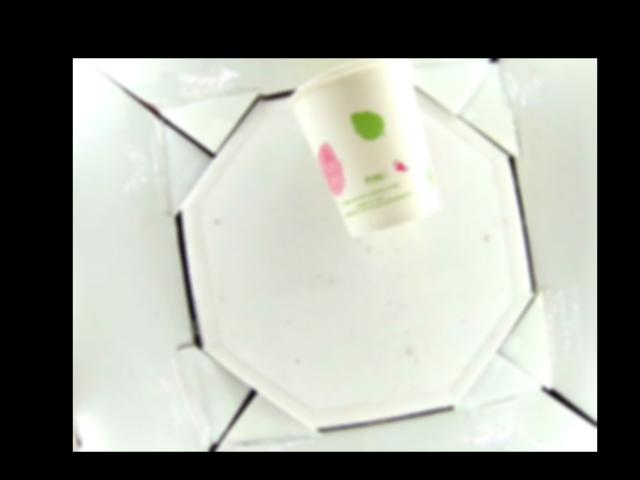Cup: (293, 59, 441, 239)
